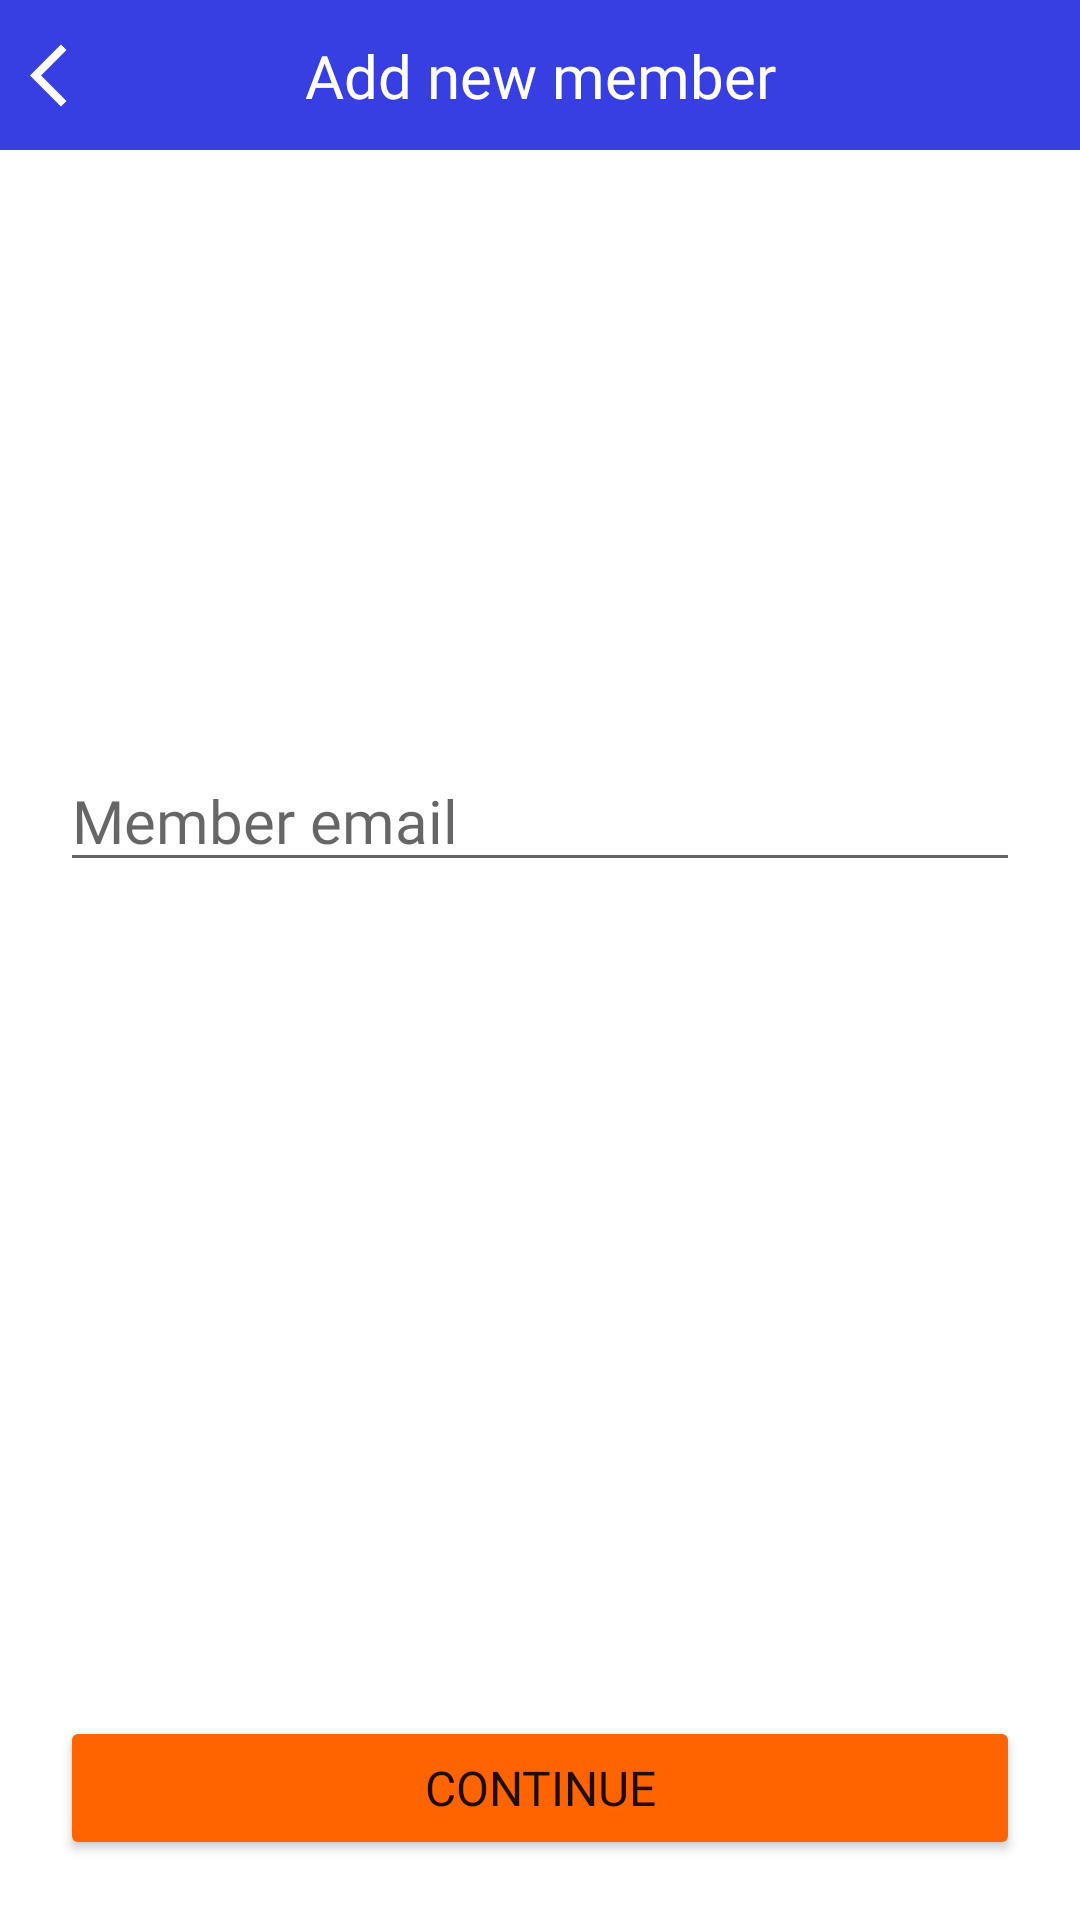

Named icons in this screenshot (1080*1920) and their bounding boxes, box=[x1, y1, x2, y2]:
back: box=[30, 44, 66, 107]
